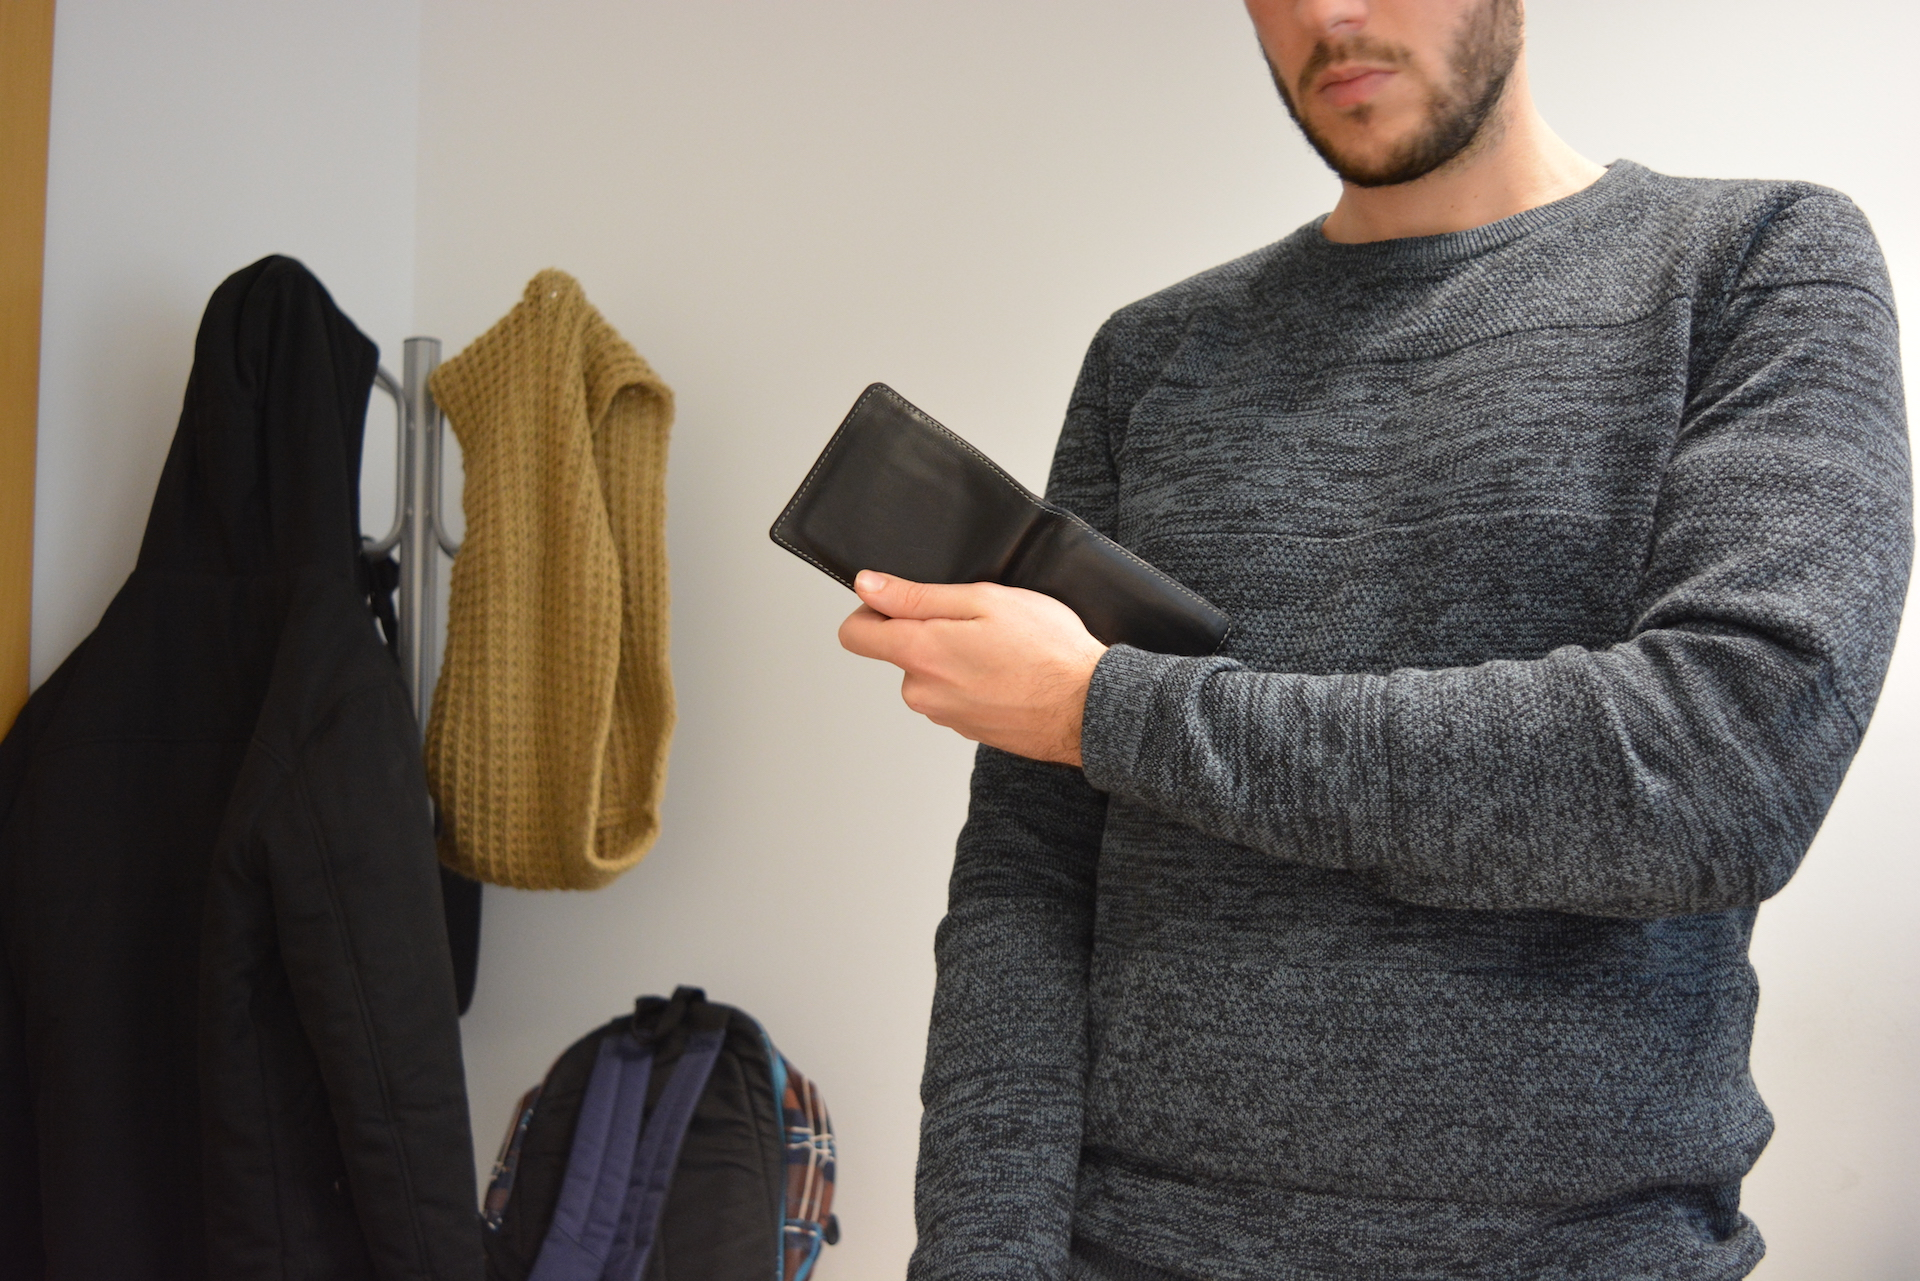monedero: (768, 380, 1237, 661)
